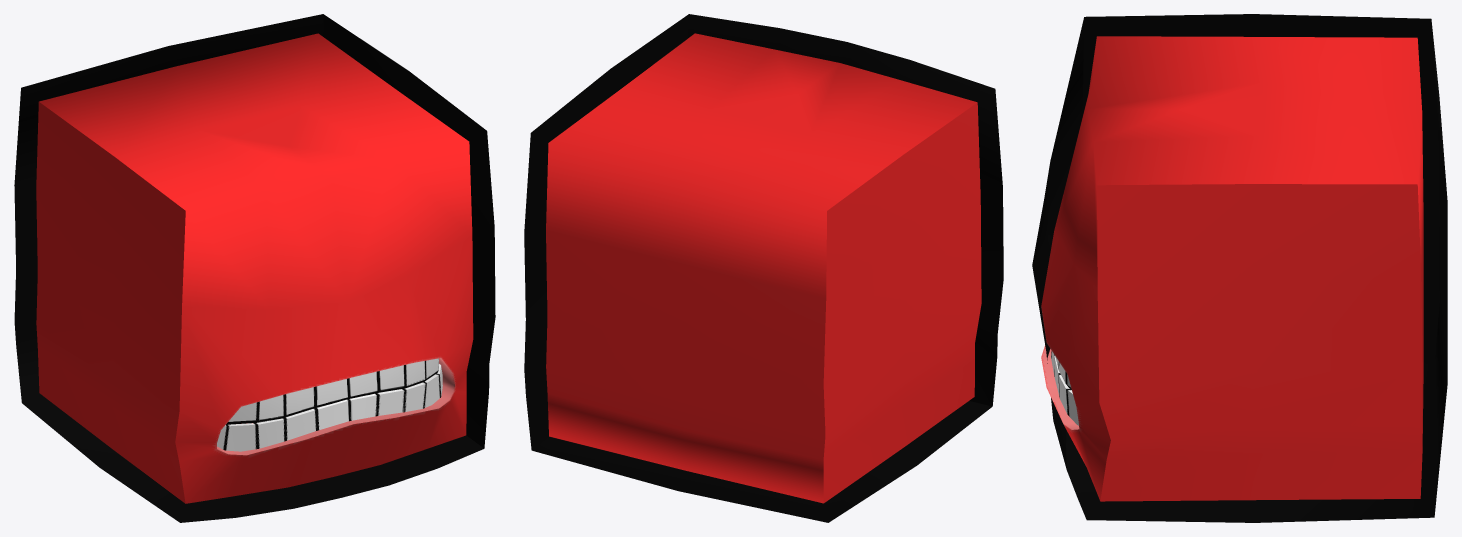
File: Enemy_box_MouseClose.fbx
3 views of the same model, side by side, from view 1: azimuth 30°, elevation 25°; view 2: azimuth 150°, elevation 25°; view 3: azimuth 270°, elevation 25° (orthographic). The views are drawn at different scales.
Parts seen in each view (by area): view 1: Body_low, Body_outline, Teeth_low; view 2: Body_low, Body_outline; view 3: Body_low, Body_outline, Teeth_low.
Boxes of the visible parts, left/top/right/bottom form: Body_low: left=36, top=33, right=473, bottom=503; Body_outline: left=14, top=14, right=495, bottom=522; Teeth_low: left=217, top=358, right=442, bottom=451; Body_low: left=546, top=33, right=981, bottom=503; Body_outline: left=524, top=14, right=1003, bottom=522; Body_low: left=1041, top=36, right=1423, bottom=501; Body_outline: left=1032, top=14, right=1447, bottom=522; Teeth_low: left=1051, top=351, right=1078, bottom=425.
Bounding box in the file's own units: 33.28 × 33.05 × 34.26.
3 materials, 2 textured.
